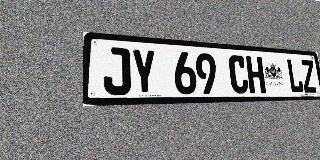6: (173, 51, 197, 94)
9: (195, 53, 218, 94)
C: (228, 55, 249, 94)
H: (246, 56, 266, 93)
J: (103, 47, 131, 95)
L: (286, 59, 304, 93)
Y: (131, 48, 157, 95)
Z: (300, 59, 317, 93)
